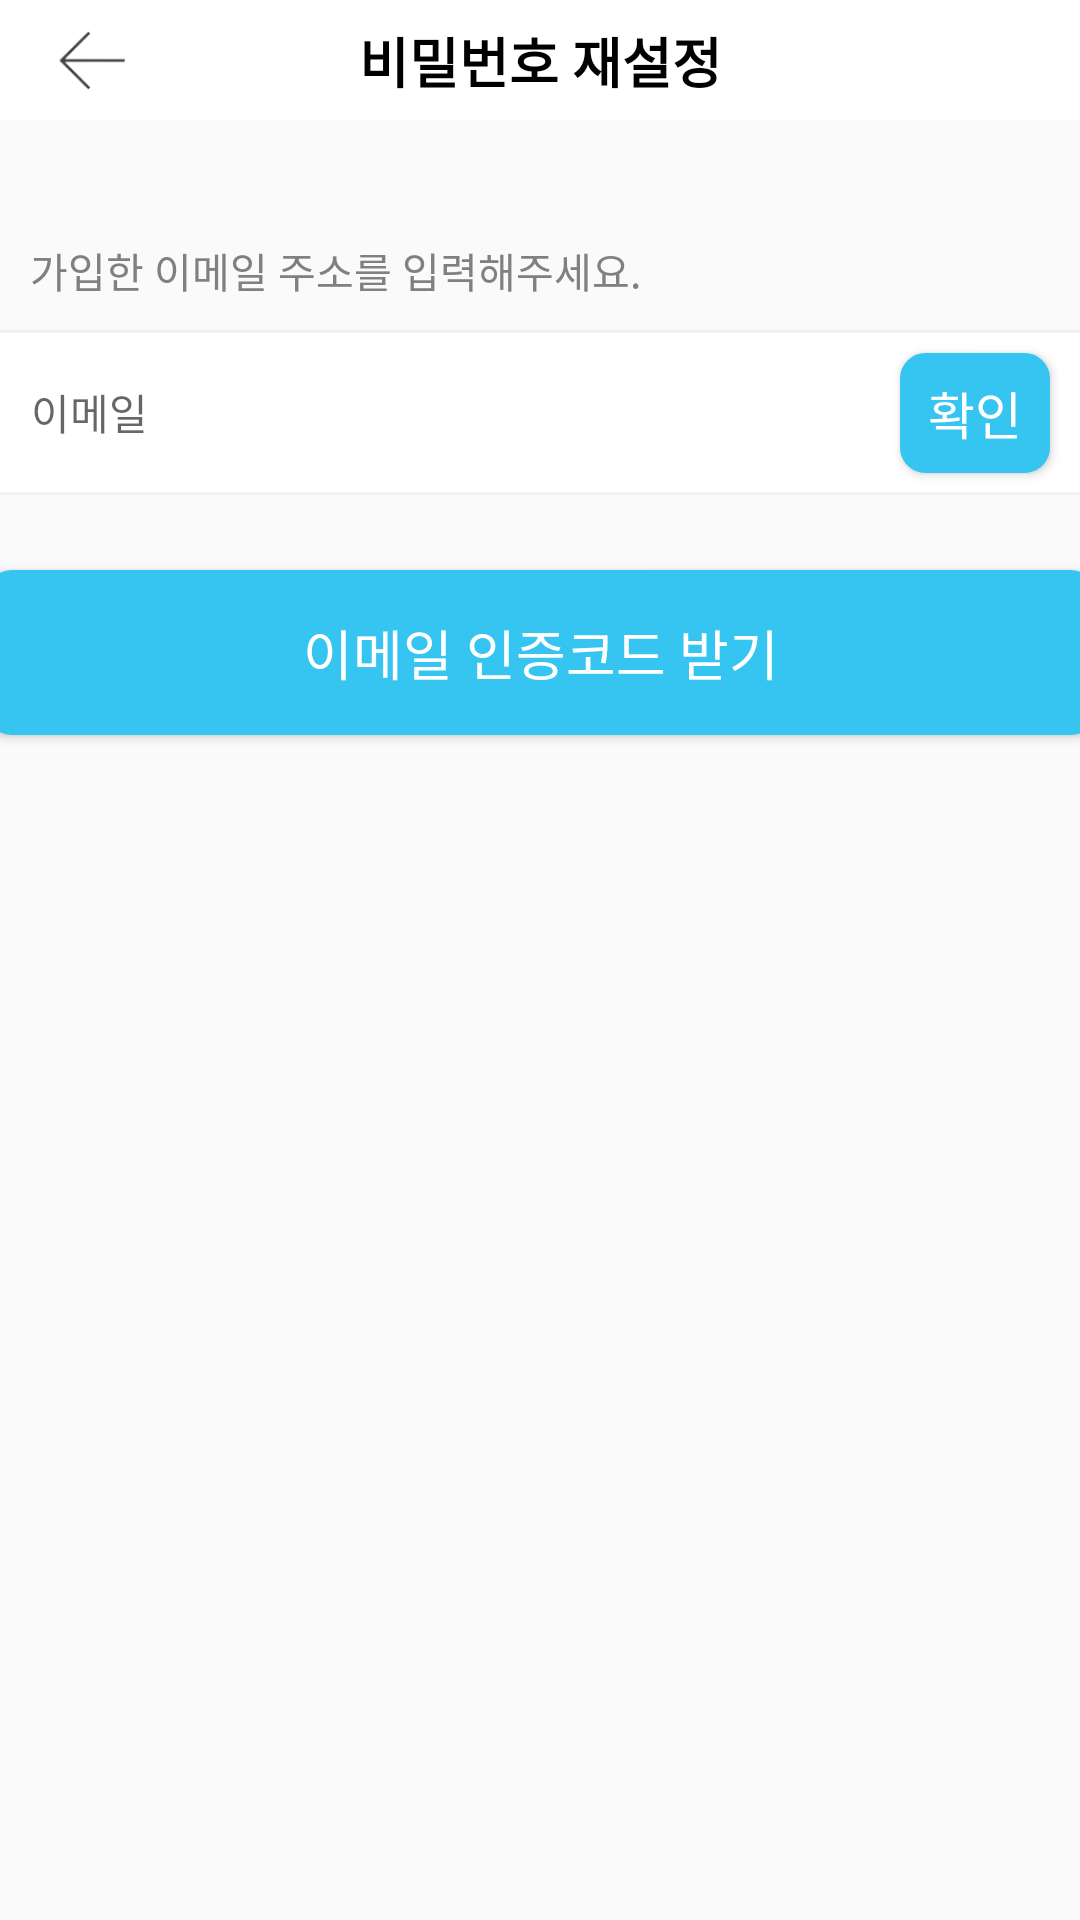

Screen size 1080 x 1920. Icon name, then its box in pixels as (x1, y1, x2, y2):
sign up back arrow: (59, 32, 125, 89)
